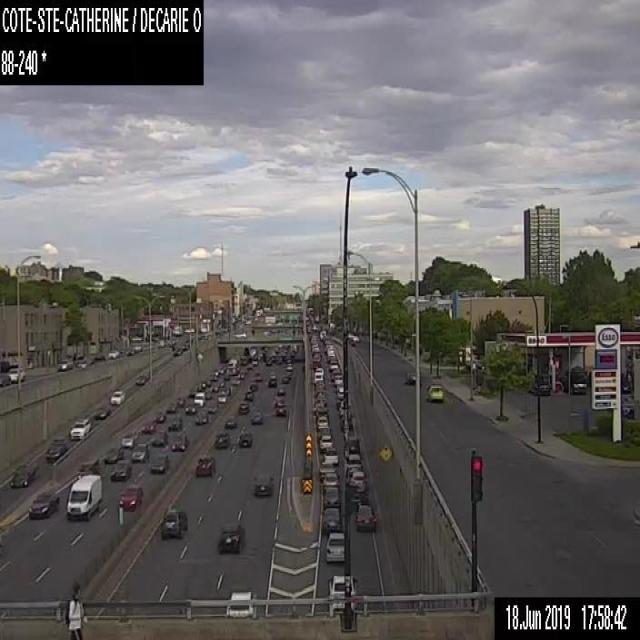pedestrian: (62, 581, 84, 639)
vehicle: (67, 475, 100, 519), (326, 572, 357, 614), (217, 518, 244, 550), (27, 491, 57, 518), (160, 508, 186, 536), (226, 591, 254, 616), (8, 464, 36, 488), (119, 485, 142, 509), (45, 436, 66, 462), (326, 532, 345, 560), (355, 504, 376, 529), (320, 507, 341, 532), (253, 469, 272, 495), (76, 458, 100, 478), (109, 460, 131, 481), (70, 418, 90, 440), (195, 456, 215, 477), (529, 380, 550, 396), (351, 470, 366, 492), (323, 486, 338, 506), (621, 394, 634, 417), (132, 442, 148, 460), (151, 453, 167, 471), (426, 384, 442, 402), (572, 373, 586, 393), (344, 436, 359, 454), (171, 432, 186, 450), (152, 430, 168, 446), (213, 431, 229, 447), (348, 453, 362, 471), (322, 472, 337, 487), (122, 432, 137, 447), (323, 447, 337, 463), (9, 367, 25, 381), (315, 407, 329, 422), (226, 358, 239, 374), (319, 434, 332, 449), (240, 431, 252, 447), (406, 371, 420, 384), (111, 390, 124, 404), (94, 408, 110, 419), (319, 462, 333, 474), (167, 418, 181, 430), (57, 359, 72, 370), (316, 425, 329, 437), (135, 372, 148, 384), (195, 411, 207, 424), (275, 402, 286, 416), (154, 408, 165, 422), (620, 378, 630, 392), (225, 415, 236, 427), (194, 392, 204, 405), (0, 374, 10, 386), (250, 410, 260, 422), (238, 400, 248, 412), (339, 404, 349, 415), (244, 389, 253, 401), (333, 374, 342, 386), (335, 396, 344, 408), (166, 401, 176, 411), (317, 416, 327, 426), (207, 403, 218, 412), (76, 359, 87, 368), (268, 374, 276, 386), (347, 333, 359, 341), (141, 424, 153, 432), (175, 396, 185, 405), (185, 405, 196, 413), (328, 360, 336, 370), (172, 348, 182, 356), (314, 389, 325, 396), (218, 392, 226, 401), (276, 386, 285, 394), (254, 372, 262, 381), (314, 372, 322, 381), (337, 386, 343, 398), (108, 350, 118, 357), (281, 374, 289, 382), (204, 390, 212, 398), (233, 332, 245, 337), (319, 330, 325, 340), (249, 382, 256, 390), (311, 344, 319, 351), (126, 348, 134, 355), (133, 344, 141, 351), (285, 362, 292, 369), (210, 385, 218, 391), (315, 368, 323, 373), (265, 358, 271, 364), (252, 358, 257, 364), (327, 348, 333, 353), (212, 368, 217, 374)
